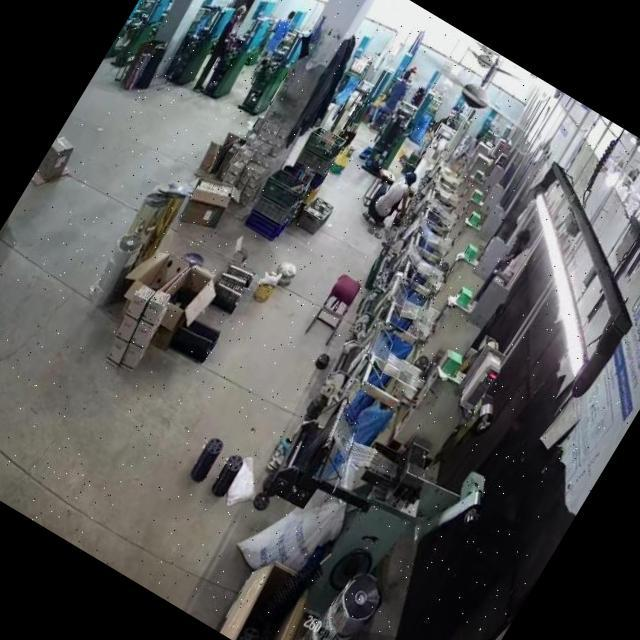person: (358, 161, 420, 238), (487, 222, 544, 297), (260, 3, 302, 59), (381, 66, 418, 115), (218, 0, 253, 46)
